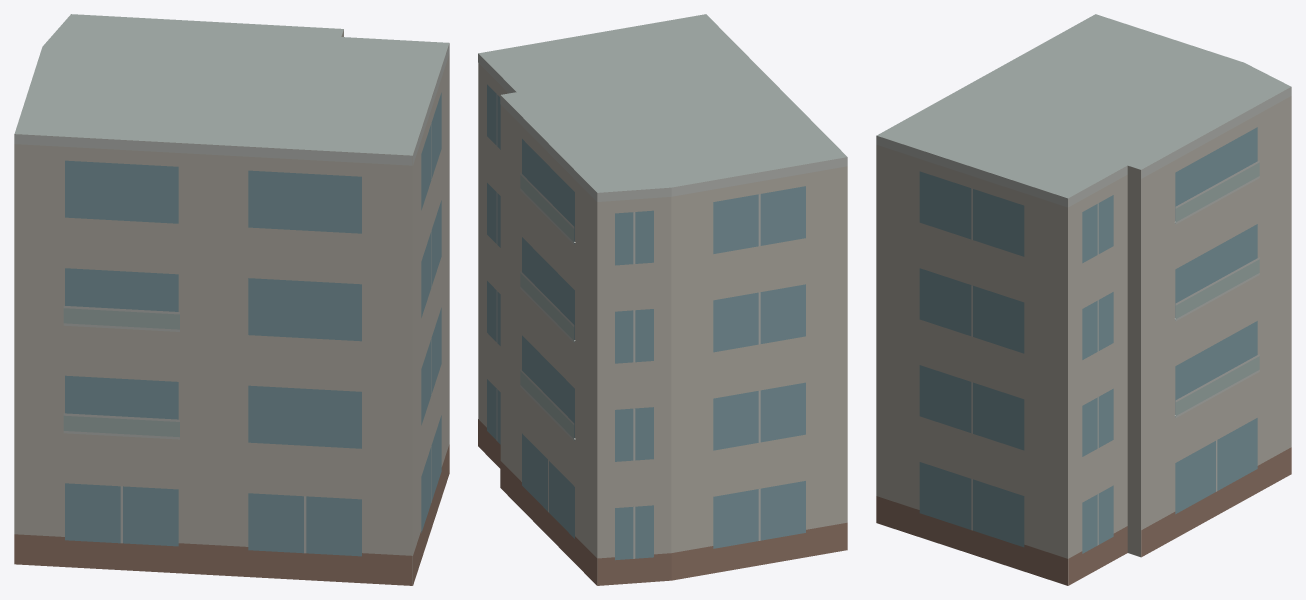
The model's file is survey-upis-32689500.glb.
3 renders of one model, left to right at view 1: azimuth 30°, elevation 25°; view 2: azimuth 150°, elevation 25°; view 3: azimuth 270°, elevation 25°, orthographic. The views are drawn at different scales.
Visible parts, largest first — view 1: survey-upis-32689500.tmp; view 2: survey-upis-32689500.tmp; view 3: survey-upis-32689500.tmp.
Boxes of the visible parts, left/top/right/bottom form: survey-upis-32689500.tmp: left=14, top=14, right=449, bottom=585; survey-upis-32689500.tmp: left=478, top=14, right=847, bottom=585; survey-upis-32689500.tmp: left=876, top=14, right=1291, bottom=585.
Size of the model in its own units: 10.63 by 10.4 by 10.11.
